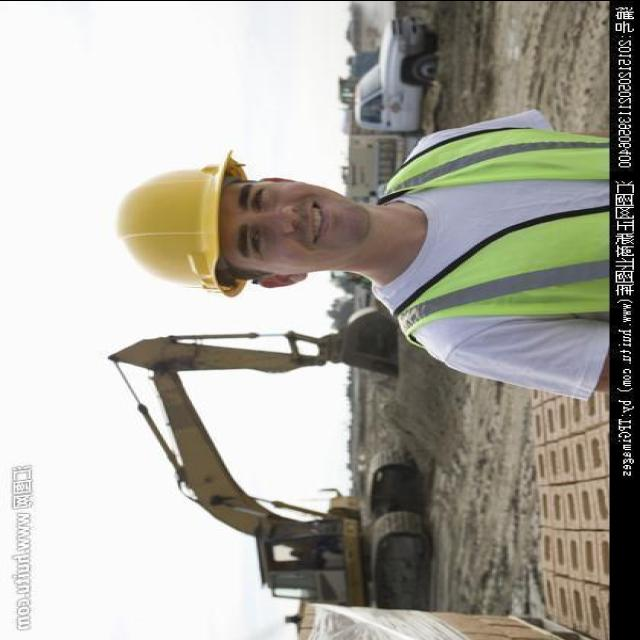helmet: (107, 134, 249, 303)
jacket: (363, 121, 609, 364)
